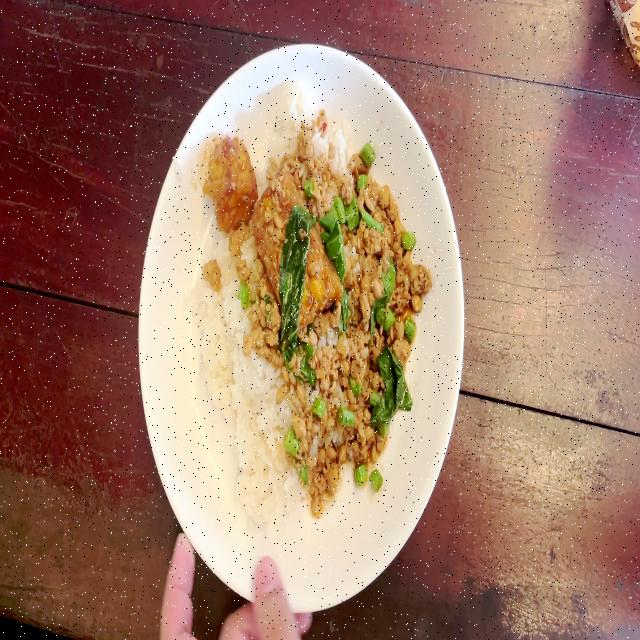fried_tofo: (257, 168, 333, 319), (208, 143, 255, 225)
minced_pork: (332, 159, 429, 483), (296, 320, 333, 502), (244, 289, 300, 368)
rice: (190, 245, 244, 418), (238, 354, 293, 512), (274, 81, 300, 143), (330, 115, 350, 167)
stir_fried_basil: (190, 76, 430, 518)
